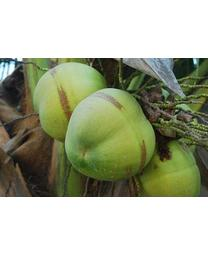coconut: (65, 89, 156, 181), (33, 62, 109, 141), (134, 131, 202, 197)
